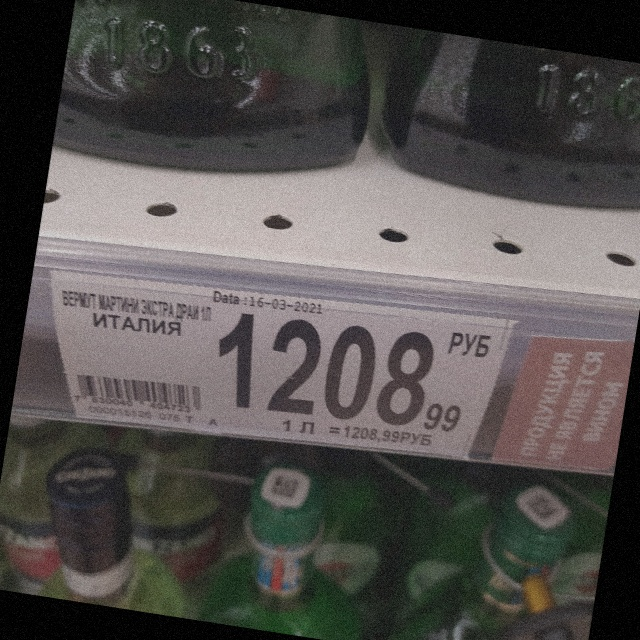barcode: (71, 372, 203, 416)
name: (60, 285, 214, 339)
price: (217, 310, 462, 434)
price_tag: (49, 269, 515, 461)
